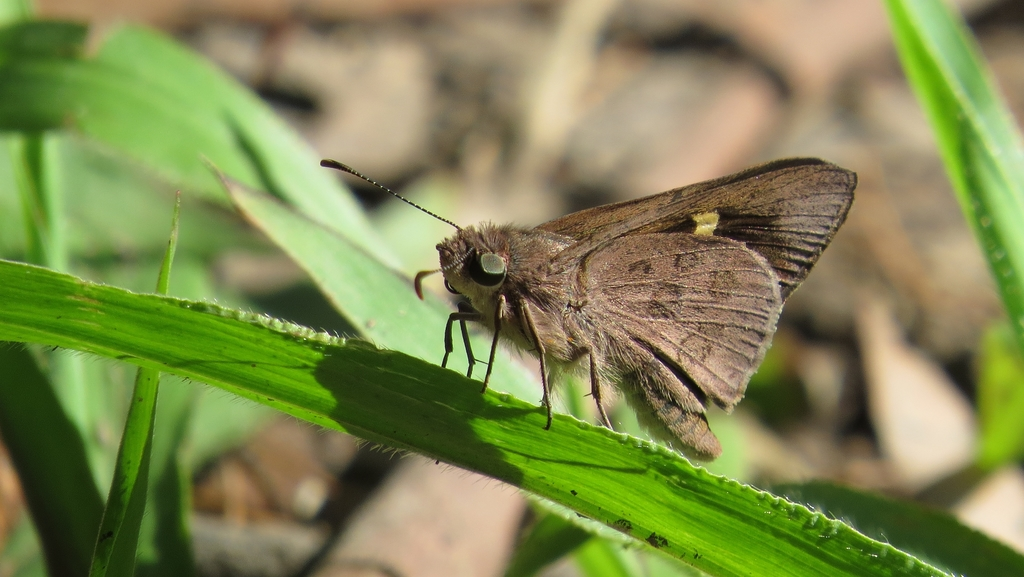Butterfly: (381, 149, 848, 468)
